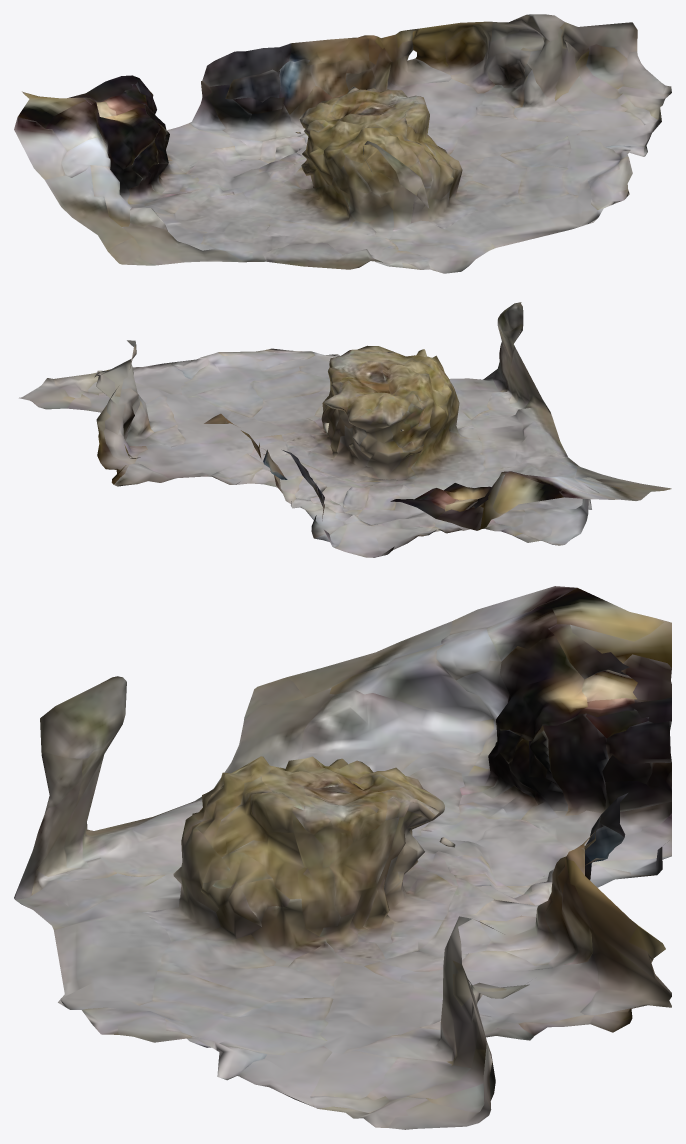
Rendered from hall.glb.
3 views of the same model, one above another, from view 1: azimuth 30°, elevation 25°; view 2: azimuth 150°, elevation 25°; view 3: azimuth 270°, elevation 25° (orthographic). The views are drawn at different scales.
Size of the model in its own units: 3.38 by 0.667 by 2.1.
1 material, 1 textured.
